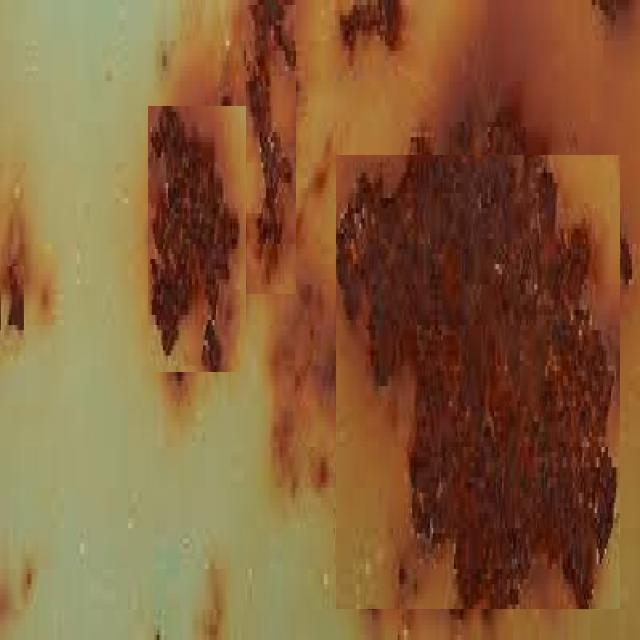Corrosion: (412, 157, 618, 608), (359, 156, 556, 410), (155, 110, 237, 344)
